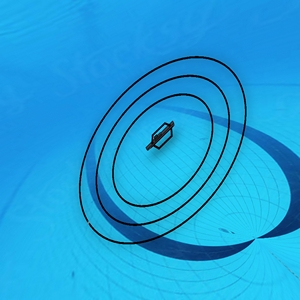circle: (78, 57, 248, 245)
submarine: (147, 121, 177, 151)
